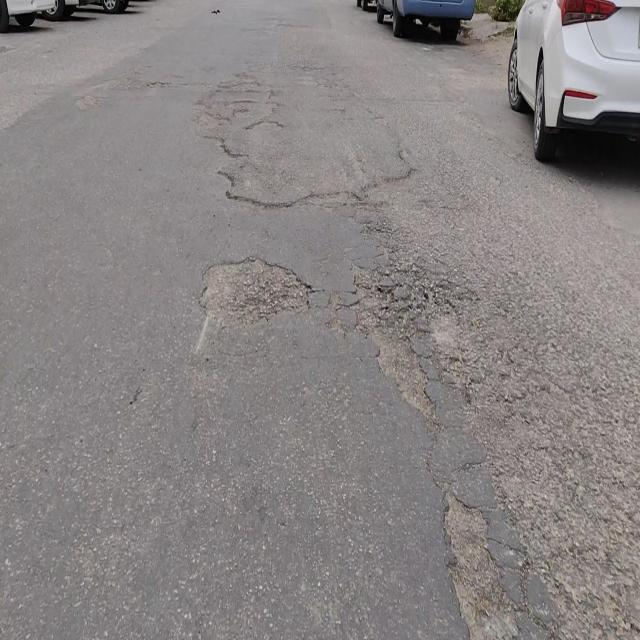Potholes: (354, 273, 438, 422), (440, 478, 519, 634), (201, 254, 312, 331)
